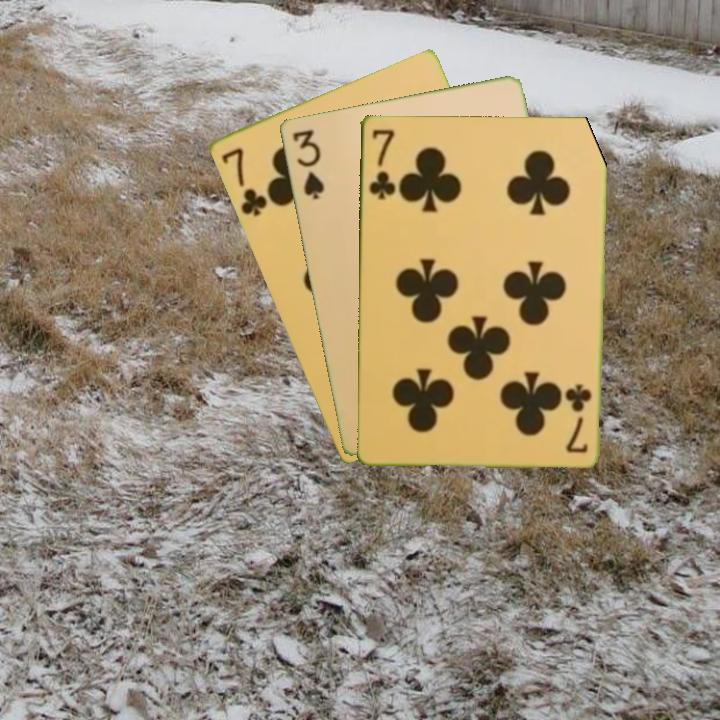3s: (288, 125, 327, 202)
7c: (217, 144, 270, 219), (366, 125, 397, 202), (566, 380, 594, 456)
